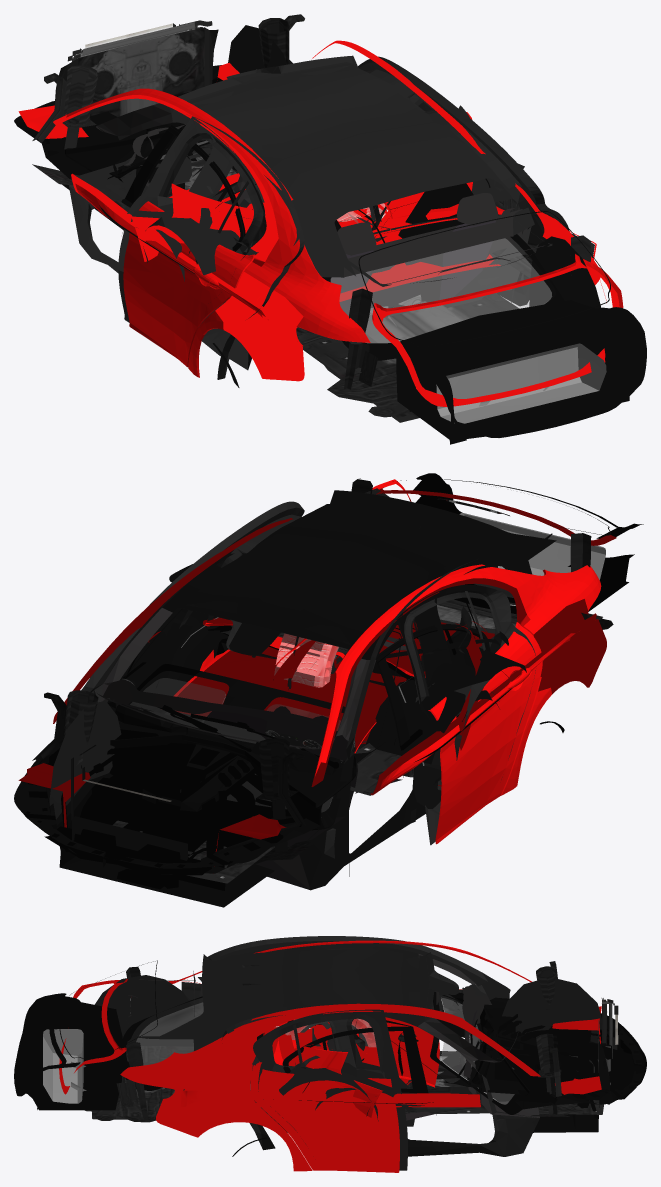
File: draco_giulia.glb
3 renders of one model, top to bottom at view 1: azimuth 30°, elevation 25°; view 2: azimuth 150°, elevation 25°; view 3: azimuth 270°, elevation 25°, orthographic. The views are drawn at different scales.
Parts seen in each view (by area): view 1: Chassis_7_6, Interior_5_14, FendersR_6_47, Glass_6_13, Skirts_6_71, BumperR_6_105, FendersChassisR_6_31, Roof_6_80, FendersChassisF_6_51, Hood_6_59; view 2: Chassis_7_6, Interior_5_14, FendersR_6_47, FendersChassisF_6_51, Glass_6_13, Roof_6_80, Skirts_6_71, FendersChassisR_6_31, Boot_6_109, Tire_Regular_S_FL_1_127, Tire_Regular_S_FL_1_140, BumperChassisF_6_96 (+4 smaller); view 3: Chassis_7_6, Interior_5_14, FendersR_6_47, Glass_6_13, Skirts_6_71, BumperR_6_105, Roof_6_80, FendersChassisR_6_31, FendersChassisF_6_51, Boot_6_109, Hood_6_59.
Boxes of the visible parts, left/top/right/bottom form: Chassis_7_6: left=14, top=14, right=646, bottom=444; Interior_5_14: left=69, top=55, right=569, bottom=379; FendersR_6_47: left=53, top=40, right=606, bottom=387; Glass_6_13: left=107, top=141, right=564, bottom=360; Skirts_6_71: left=71, top=155, right=596, bottom=346; BumperR_6_105: left=131, top=112, right=472, bottom=261; FendersChassisR_6_31: left=145, top=178, right=512, bottom=275; Roof_6_80: left=169, top=173, right=500, bottom=301; FendersChassisF_6_51: left=122, top=163, right=524, bottom=336; Hood_6_59: left=254, top=203, right=510, bottom=256; Chassis_7_6: left=14, top=473, right=643, bottom=907; Interior_5_14: left=81, top=490, right=556, bottom=890; FendersR_6_47: left=53, top=518, right=606, bottom=845; FendersChassisF_6_51: left=129, top=622, right=499, bottom=764; Glass_6_13: left=109, top=584, right=515, bottom=830; Roof_6_80: left=174, top=646, right=406, bottom=753; Skirts_6_71: left=122, top=612, right=596, bottom=795; FendersChassisR_6_31: left=173, top=608, right=526, bottom=769; Boot_6_109: left=203, top=617, right=425, bottom=680; Tire_Regular_S_FL_1_127: left=274, top=633, right=337, bottom=687; Tire_Regular_S_FL_1_140: left=275, top=642, right=331, bottom=684; BumperChassisF_6_96: left=213, top=625, right=508, bottom=686; Chassis_7_6: left=14, top=960, right=646, bottom=1132; Interior_5_14: left=128, top=936, right=539, bottom=1156; FendersR_6_47: left=120, top=940, right=540, bottom=1172; Glass_6_13: left=120, top=992, right=529, bottom=1114; Skirts_6_71: left=180, top=981, right=481, bottom=1107; BumperR_6_105: left=278, top=1034, right=382, bottom=1117; Roof_6_80: left=225, top=1024, right=439, bottom=1087; FendersChassisR_6_31: left=279, top=1062, right=378, bottom=1121; FendersChassisF_6_51: left=315, top=1062, right=413, bottom=1112; Boot_6_109: left=297, top=1026, right=367, bottom=1060; Hood_6_59: left=250, top=1033, right=411, bottom=1084.
Size of the model in its own units: 61383 by 38496 by 144165.
18 materials, 8 textured.
